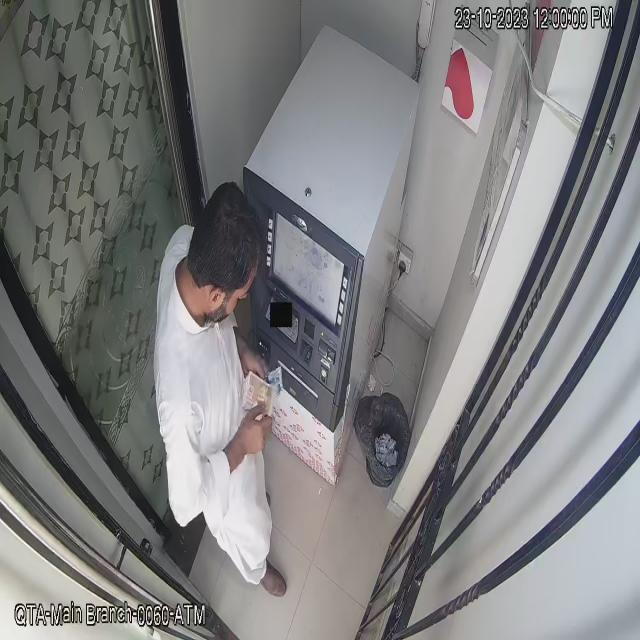note: (236, 360, 286, 425)
